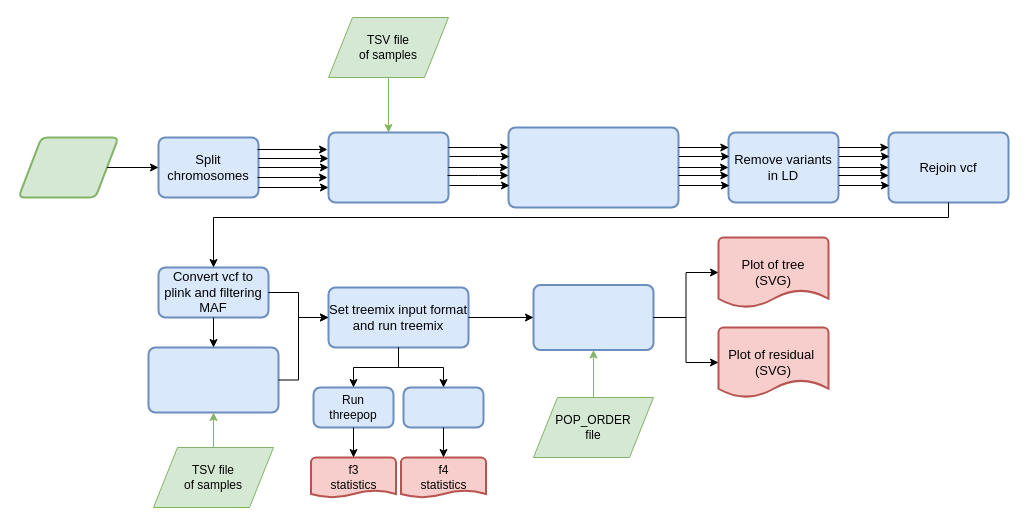
The diagram is 1026 pixels wide and 525 high, and some of its shapes have lost their labels. Here are the shapes that lost their labels. From the top down, the box of each, then its label:
(17, 136, 119, 198): VCF file
(327, 131, 449, 203): Format vcf chunks and select samples
(507, 126, 679, 208): Keep only biallelic snps and give an ID to variants without rsID
(532, 284, 654, 350): Plot treemix results
(147, 346, 279, 413): Make clust file
(402, 386, 484, 428): Run fourpop
